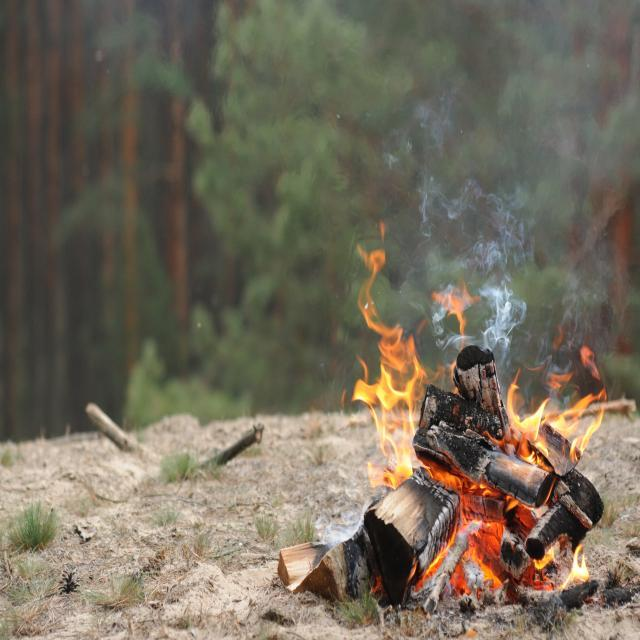Fire: (352, 220, 608, 620)
